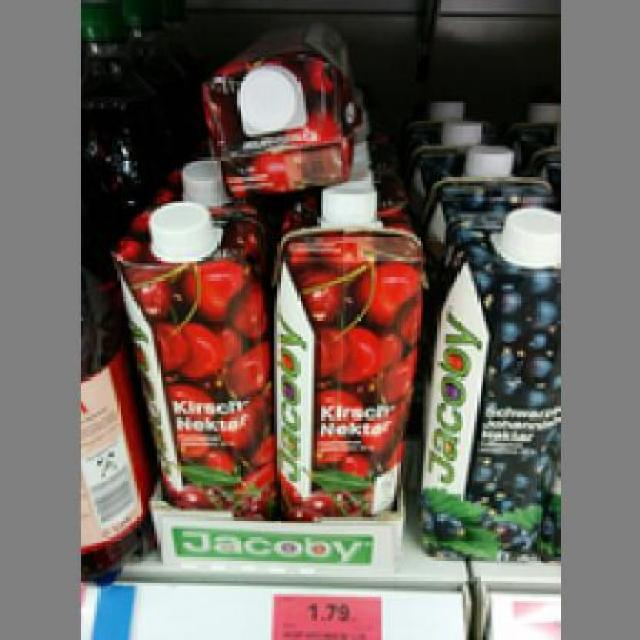Juice: (271, 185, 424, 518), (111, 200, 272, 514), (417, 188, 557, 512), (199, 11, 355, 200)
